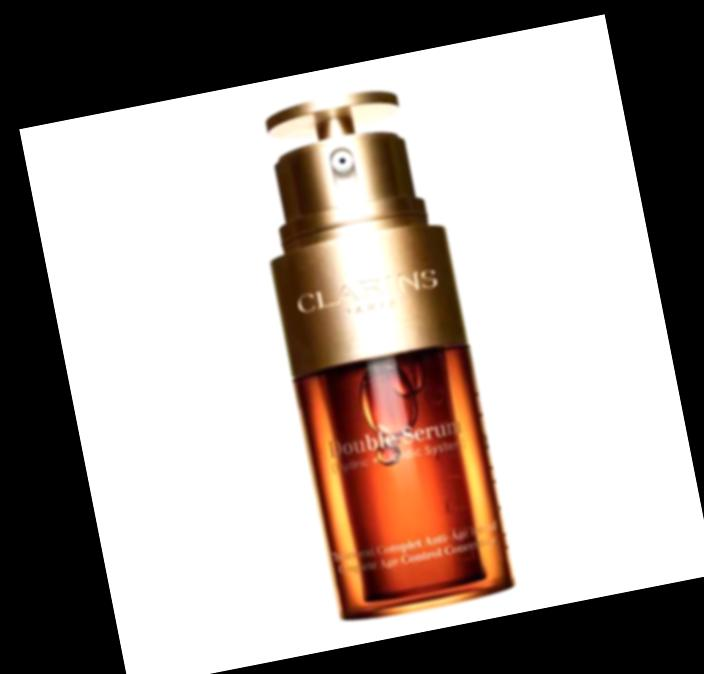cosmetic: (232, 72, 518, 621)
